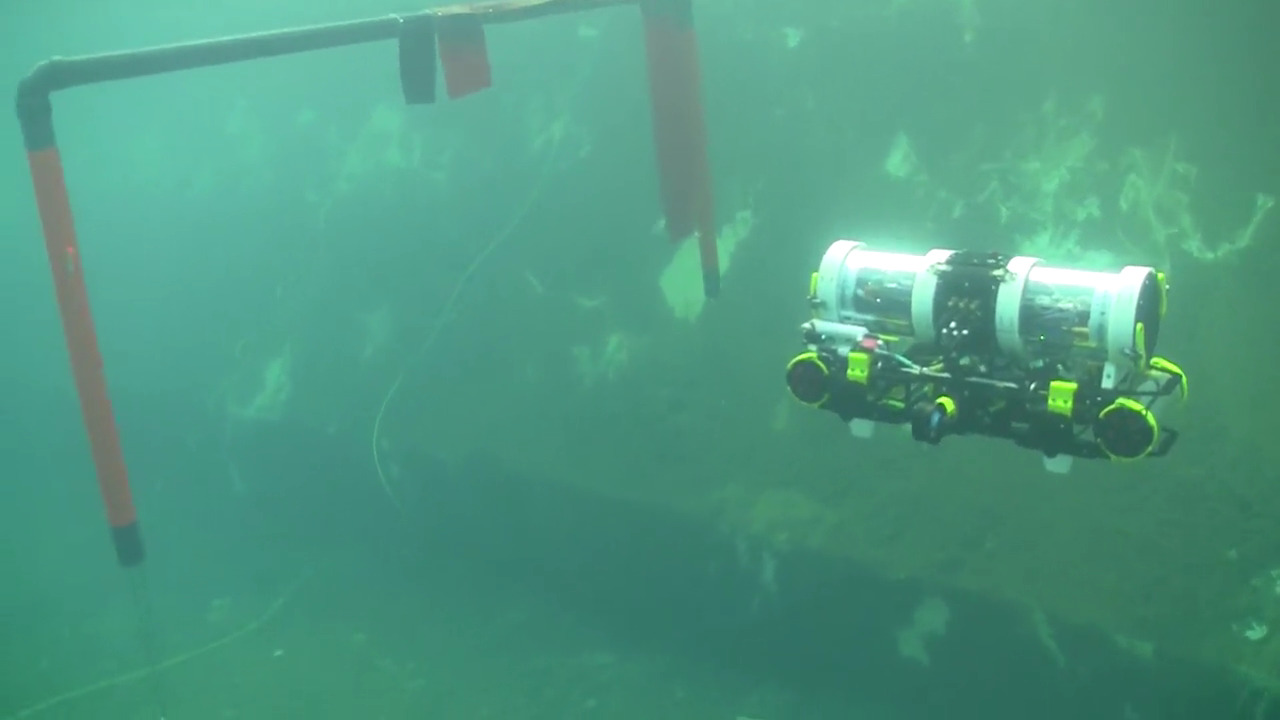gate: (11, 1, 732, 590)
